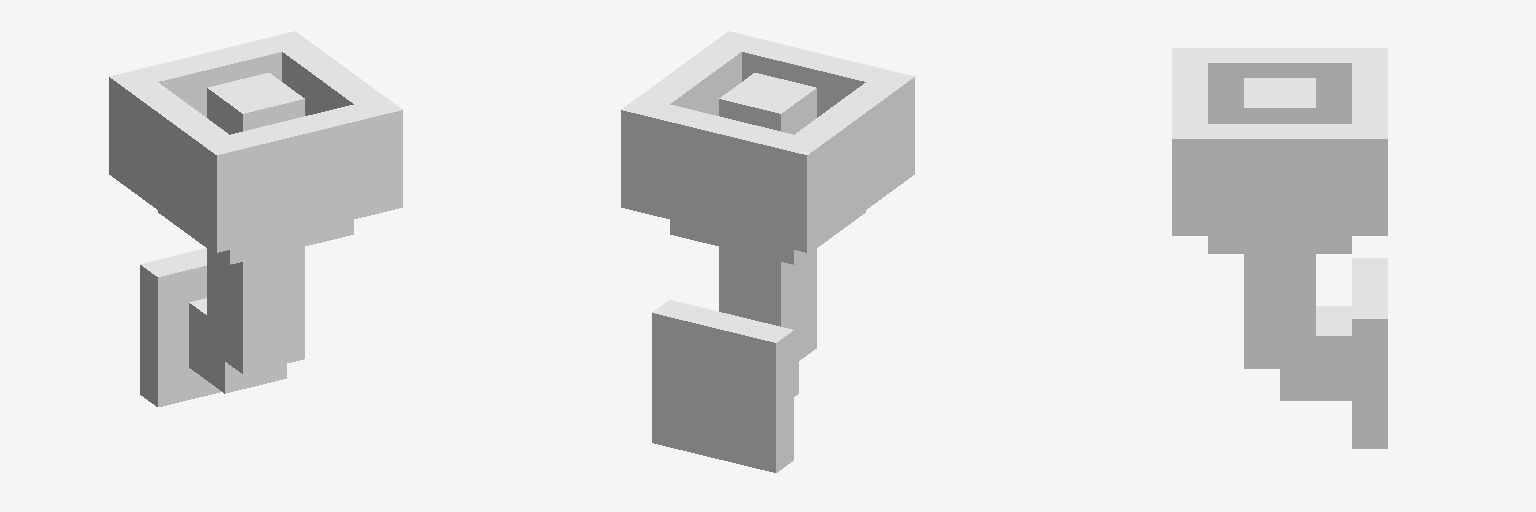
File: Lamp0.obj
3 renders of one model, left to right at view 1: azimuth 30°, elevation 25°; view 2: azimuth 150°, elevation 25°; view 3: azimuth 270°, elevation 25°, orthographic.
Parts seen in each view (by area): view 1: object 1; view 2: object 1; view 3: object 1.
Part boxes in pixels (x1,y1,x2,y2): object 1: (109,31,402,406); object 1: (621,31,914,472); object 1: (1172,48,1387,448).
Size of the model in its own units: 0.6 by 1 by 0.6.